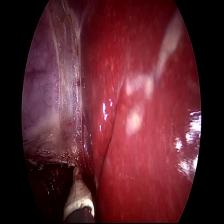Hook: (62, 162, 96, 224)
